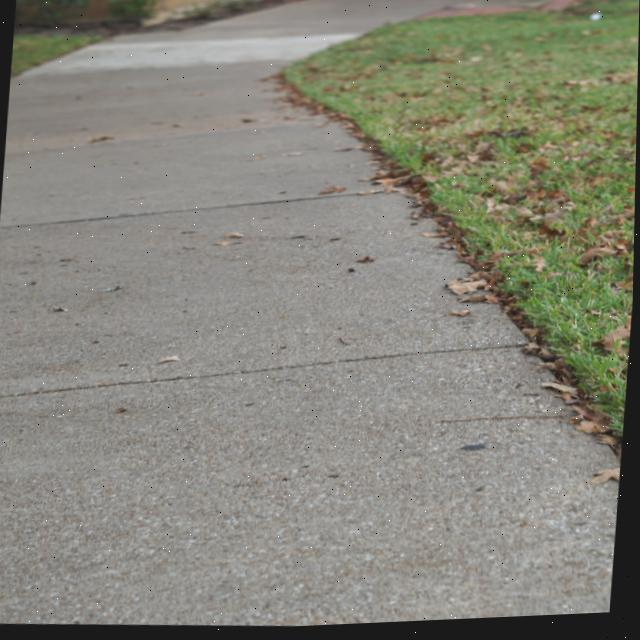Sidewalk: (0, 0, 621, 629)
